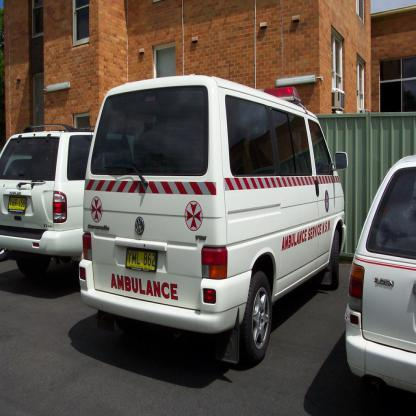Ambulance - v1 Ambulance last generate: (77, 73, 347, 367)
